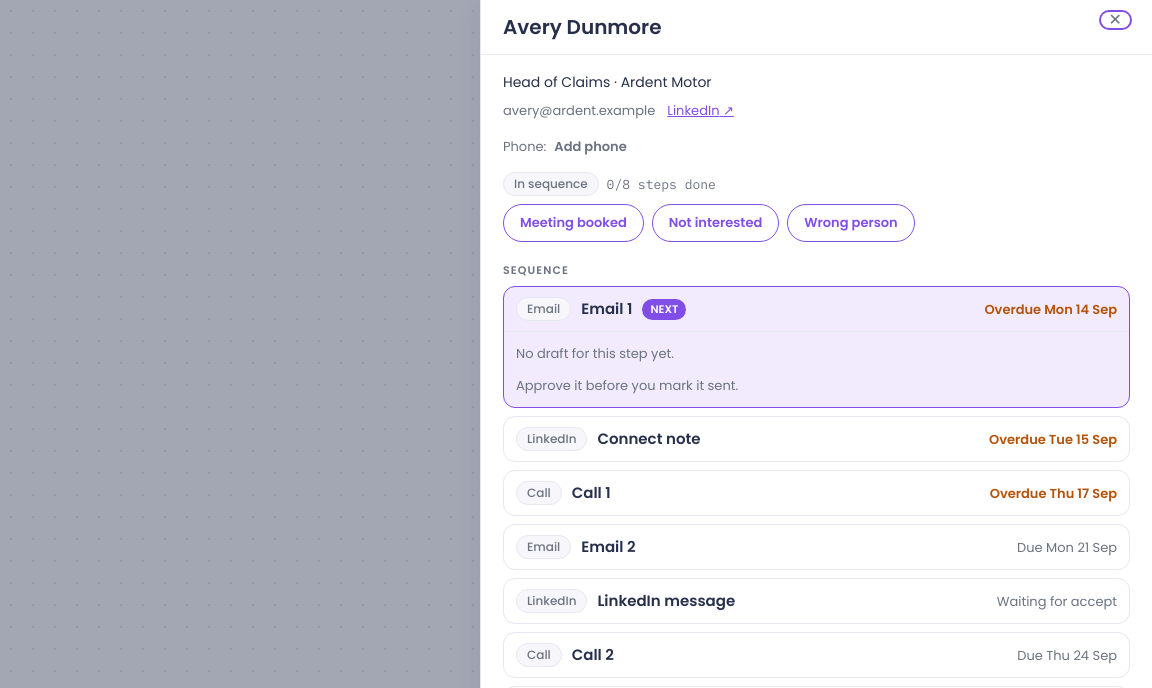
Scenario: the header › Add phone saves the number through setPhone
Click the button "Add phone" at (590, 147), box [554,129,627,164]
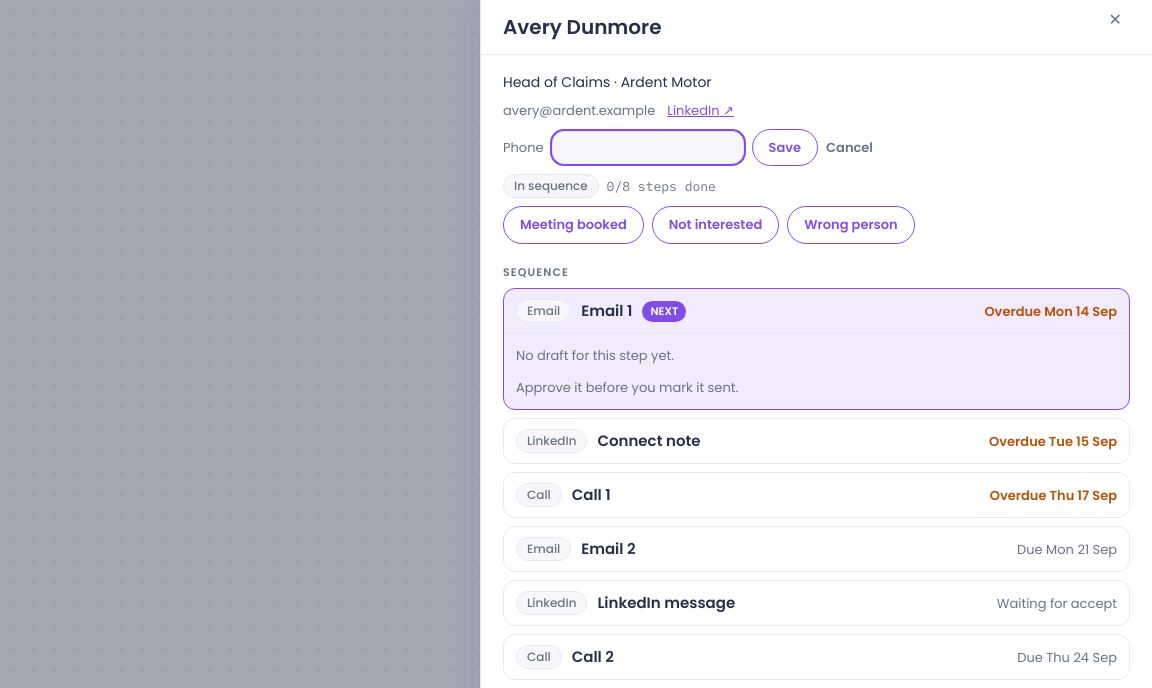
Type "+44 20 7946 0000" into the field labelled "Phone" at (648, 148), box [552,131,744,164]
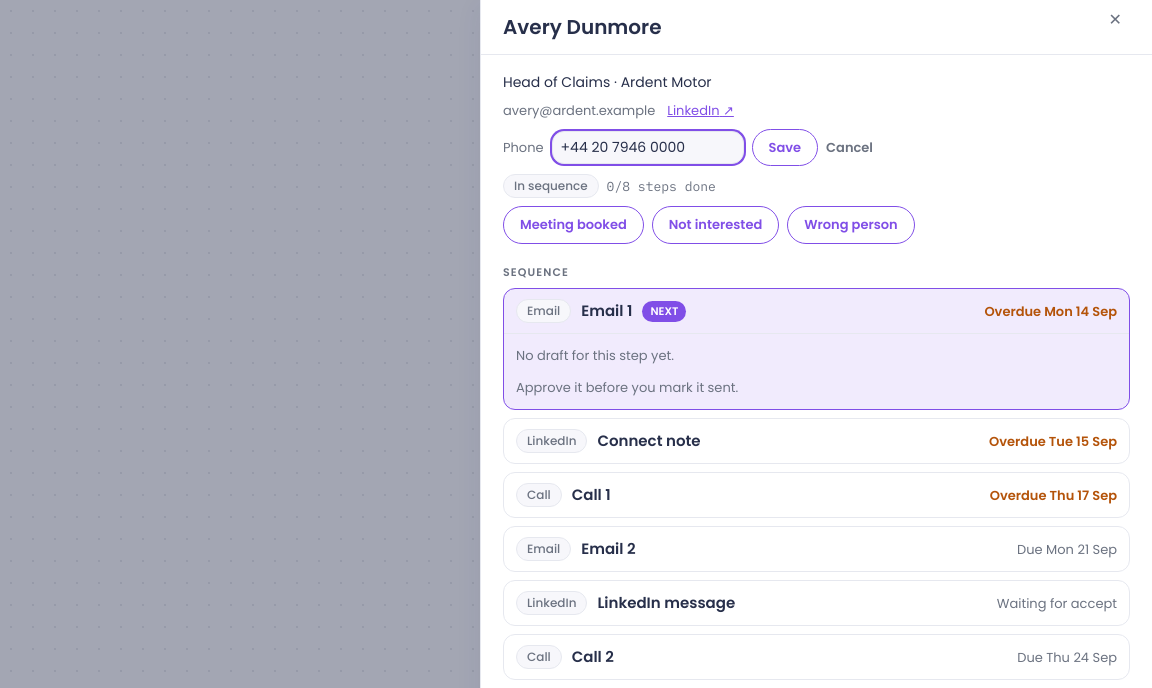
Submit the form with test id "drawer-phone-form", box [503,129,873,166]
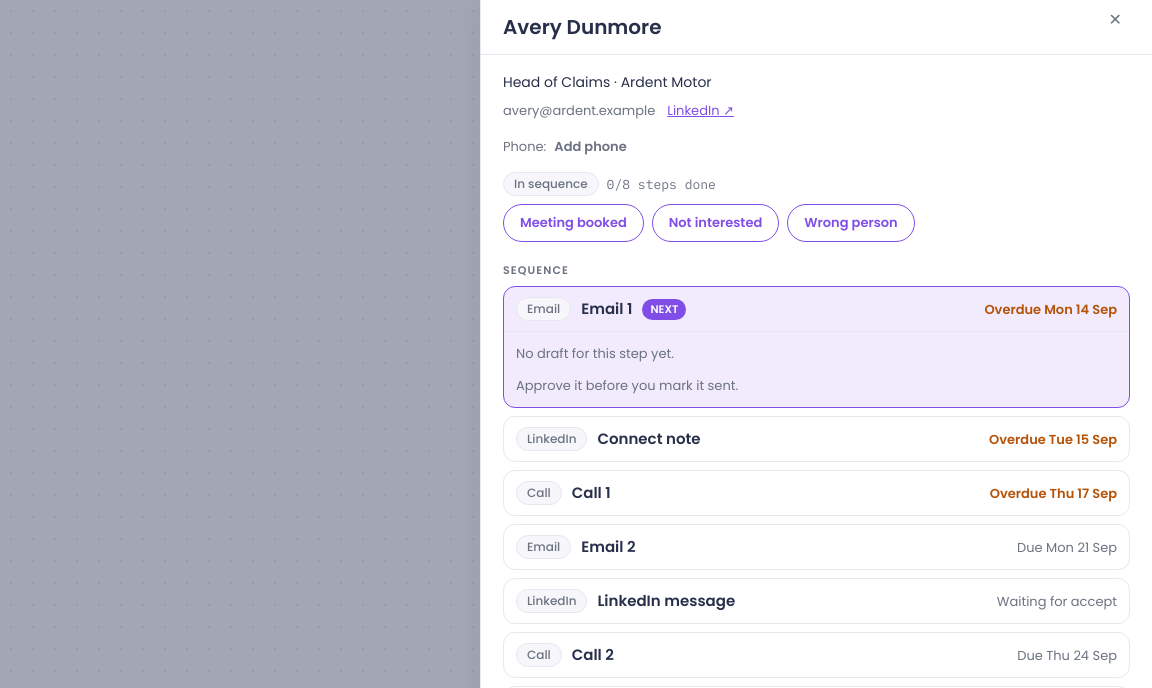
Result: the form with test id "drawer-phone-form" is gone
